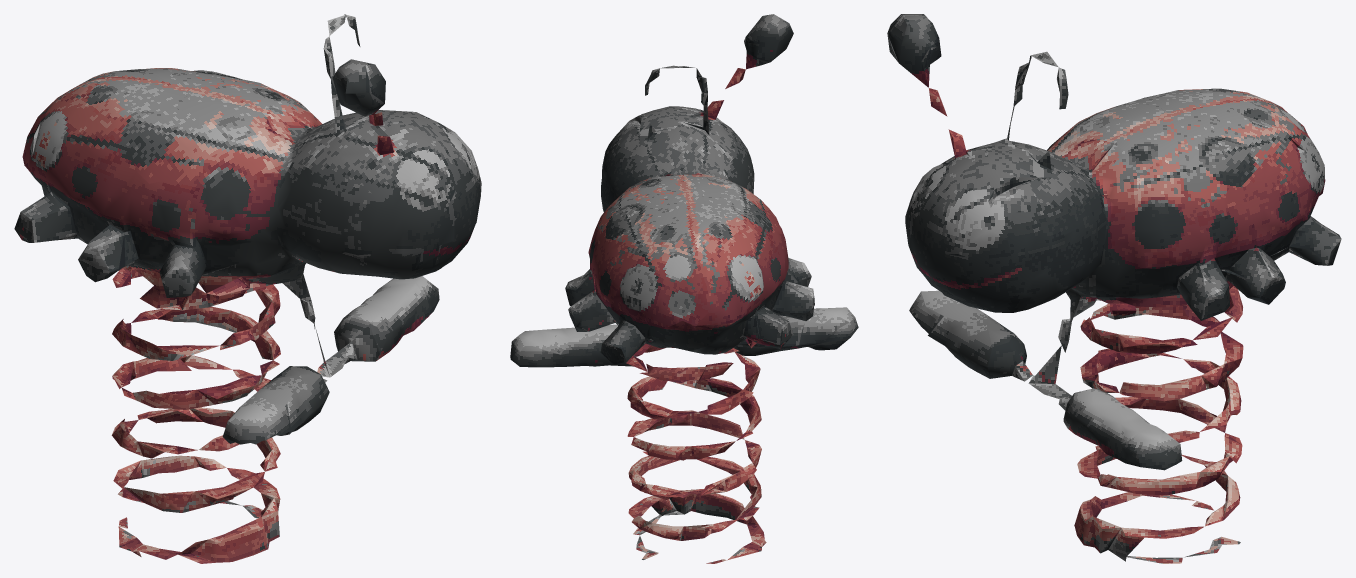
The model's file is spring_panda.glb.
3 renders of one model, left to right at view 1: azimuth 30°, elevation 25°; view 2: azimuth 150°, elevation 25°; view 3: azimuth 270°, elevation 25°, orthographic. The views are drawn at different scales.
Visible parts, largest first — view 1: mesh; view 2: mesh; view 3: mesh.
Part boxes in pixels (<box>): mesh: <box>14,14,481,563</box>; mesh: <box>510,14,858,563</box>; mesh: <box>887,14,1341,563</box>.
Bounding box in the file's own units: 0.6941 × 0.975 × 0.7528.
1 material, 1 textured.
